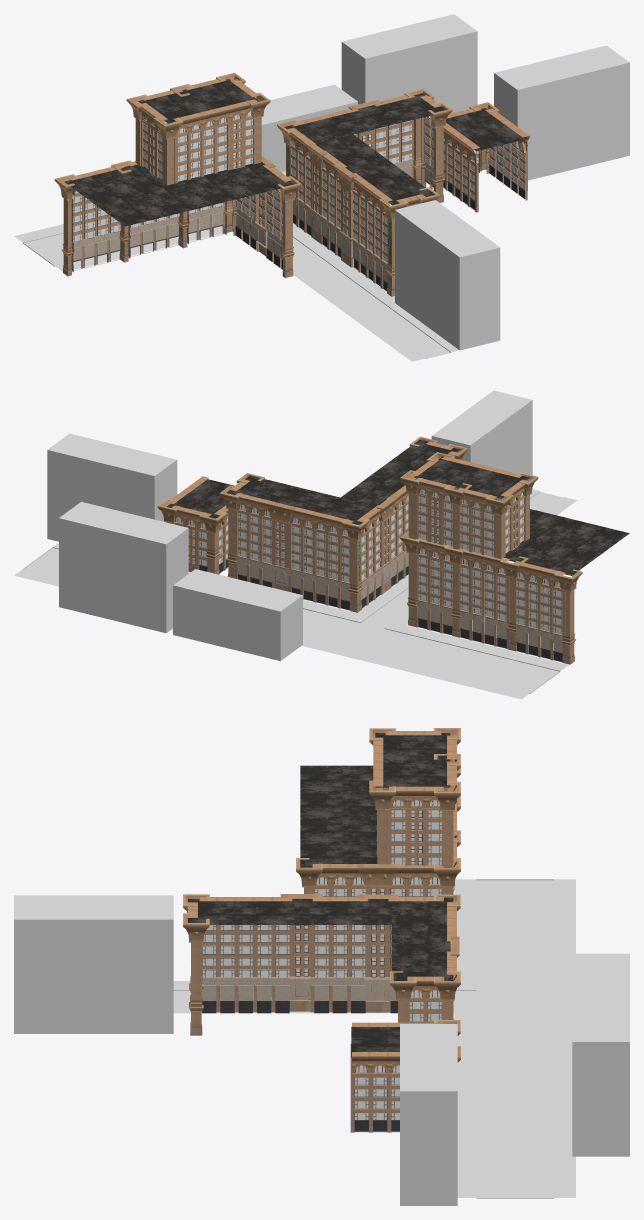
The model's file is TT_building_.fbx.
3 views of the same model, one above another, from view 1: azimuth 30°, elevation 25°; view 2: azimuth 150°, elevation 25°; view 3: azimuth 270°, elevation 25° (orthographic). The views are drawn at different scales.
Parts seen in each view (by area): view 1: Scene, Building 3, Building 1, Building 2; view 2: Scene, Building 3, Building 1, Building 2; view 3: Scene, Building 1, Building 3, Building 2.
Boxes of the visible parts, x1,y1,x2,y2 form: Scene: (14,14,629,361); Building 3: (54,72,301,277); Building 1: (277,89,452,296); Building 2: (443,102,529,212); Scene: (14,390,577,699); Building 3: (400,452,629,664); Building 1: (219,436,467,612); Building 2: (157,476,234,574); Scene: (14,879,629,1205); Building 1: (183,894,460,1035); Building 3: (296,728,460,896); Building 2: (350,1020,460,1132).
Bounding box in the file's own units: 23945 × 6484 × 18879.
